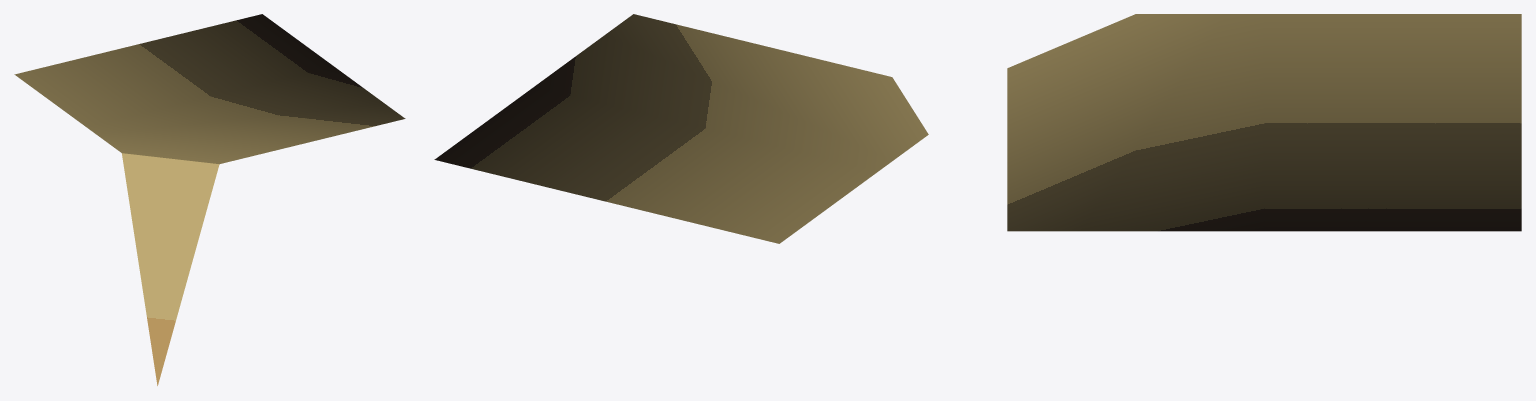
The picture shows the model from 3 angles, left to right: view 1: azimuth 30°, elevation 25°; view 2: azimuth 150°, elevation 25°; view 3: azimuth 270°, elevation 25°; orthographic projection. The views are drawn at different scales.
Bounding box in the file's own units: 1 × 0.7998 × 1.
2 materials, 2 textured.
